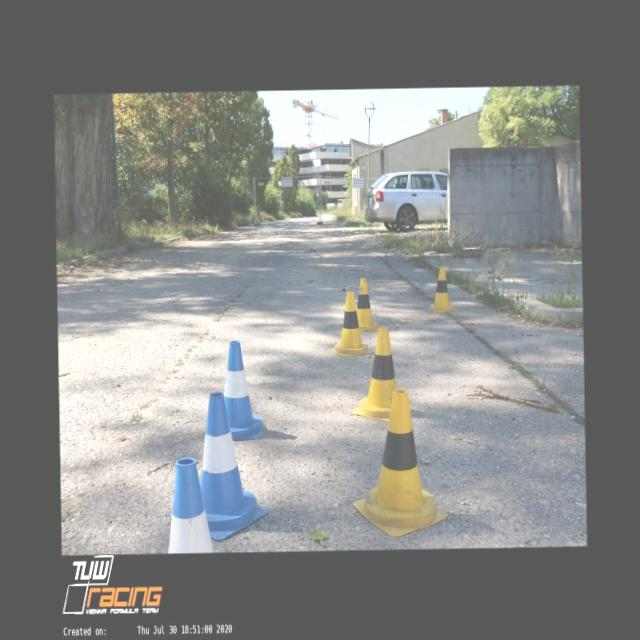blue_cone: (180, 390, 268, 540), (210, 340, 262, 440), (165, 457, 214, 552)
yellow_cone: (351, 388, 448, 537), (350, 326, 413, 423), (329, 290, 372, 356), (348, 277, 380, 332), (426, 266, 458, 312)
